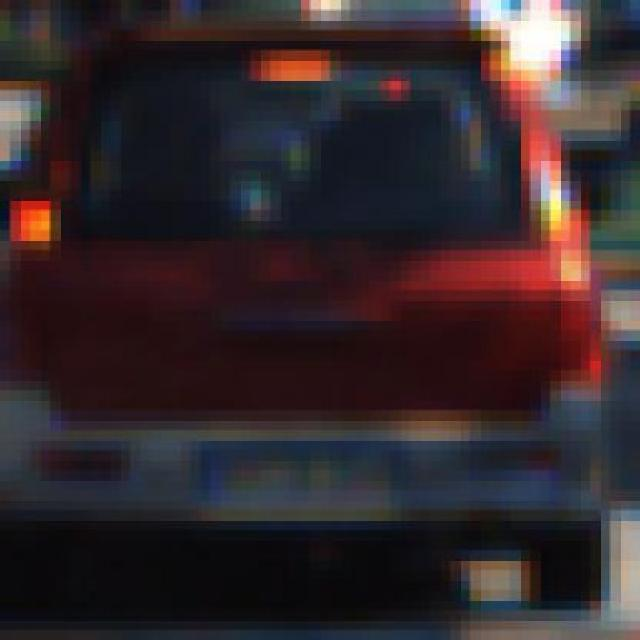vehicle: (4, 11, 616, 610)
